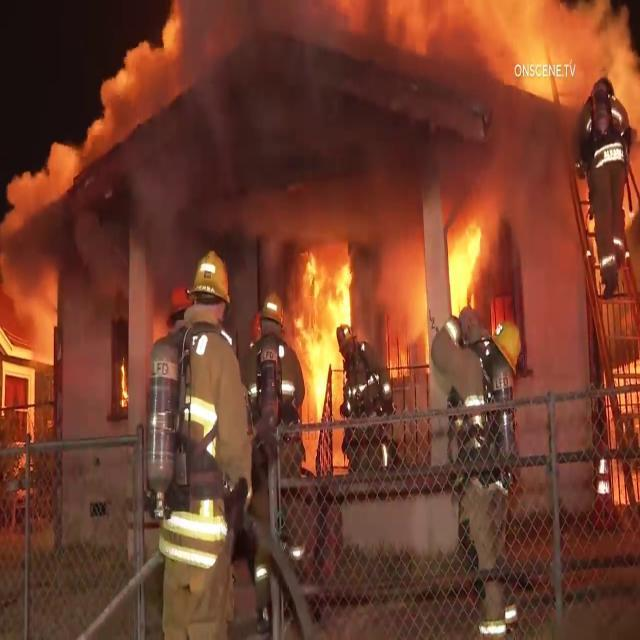Fire: (296, 252, 358, 408), (441, 216, 493, 302), (524, 18, 562, 100), (112, 362, 128, 403)
Smoke: (145, 7, 426, 144)
